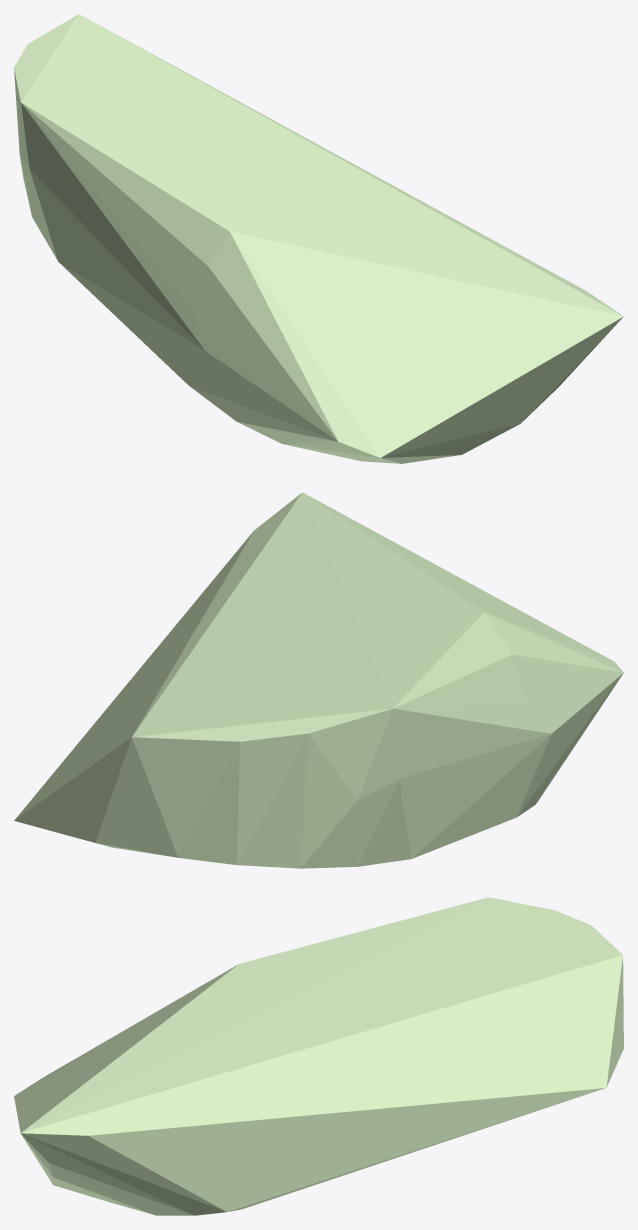
The model's file is kuka_link5_resp_coll_2.dae.
3 views of the same model, one above another, from view 1: azimuth 30°, elevation 25°; view 2: azimuth 150°, elevation 25°; view 3: azimuth 270°, elevation 25° (orthographic). The views are drawn at different scales.
Visible parts, largest first — view 1: Node_0000015C5C913BC0; view 2: Node_0000015C5C913BC0; view 3: Node_0000015C5C913BC0.
Part boxes in pixels (x1,y1,x2,y2): Node_0000015C5C913BC0: (14,14,623,463); Node_0000015C5C913BC0: (14,492,623,868); Node_0000015C5C913BC0: (14,897,623,1215).
Bounding box in the file's own units: 0.1247 × 0.0836 × 0.2205.
